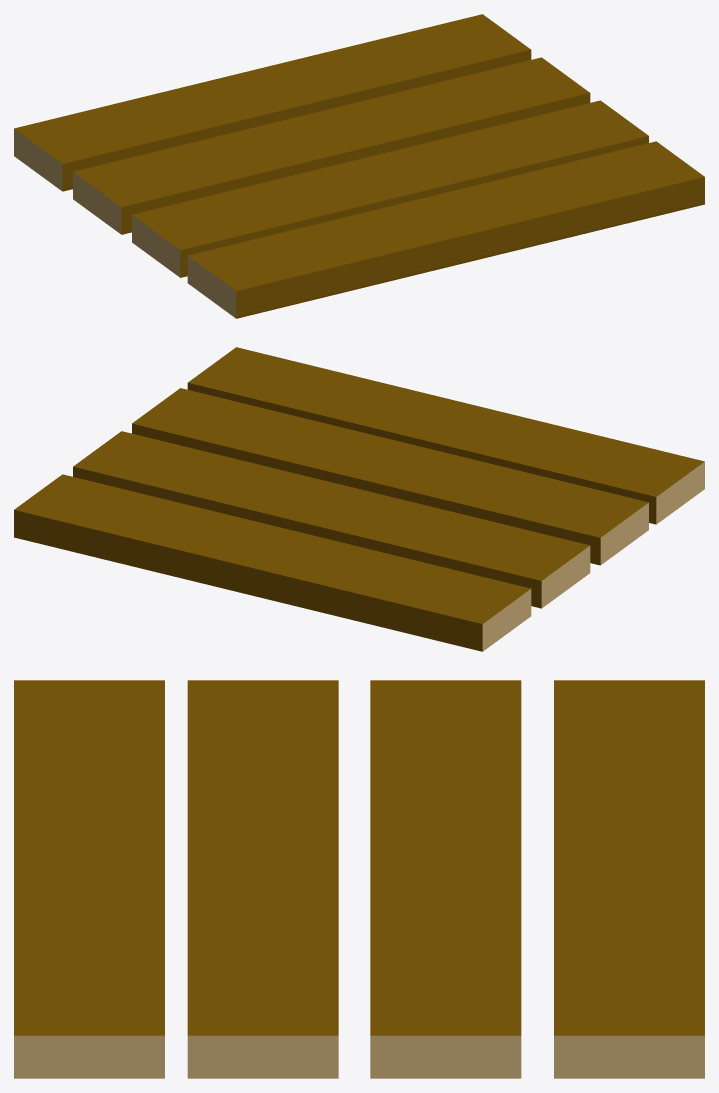
Rendered from Bridge_Planksx4.fbx.
3 views of the same model, one above another, from view 1: azimuth 30°, elevation 25°; view 2: azimuth 150°, elevation 25°; view 3: azimuth 270°, elevation 25° (orthographic). The views are drawn at different scales.
Parts seen in each view (by area): view 1: Bridge_Planksx4; view 2: Bridge_Planksx4; view 3: Bridge_Planksx4.
Boxes of the visible parts, x1,y1,x2,y2 form: Bridge_Planksx4: [14, 14, 704, 318]; Bridge_Planksx4: [14, 347, 704, 651]; Bridge_Planksx4: [14, 680, 704, 1078].
Size of the model in its own units: 3 by 0.1691 by 2.46.
